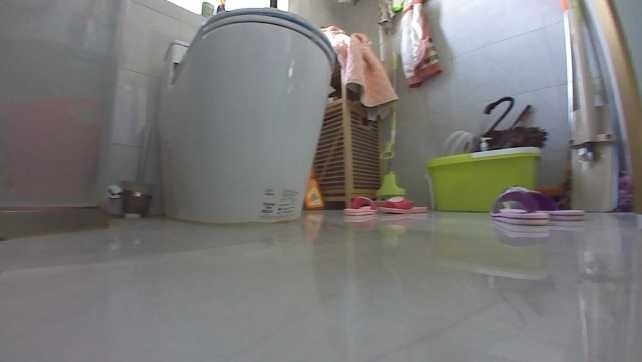slipper: (486, 184, 587, 225), (376, 194, 427, 214), (338, 191, 376, 215)
toilet: (146, 2, 343, 227)
